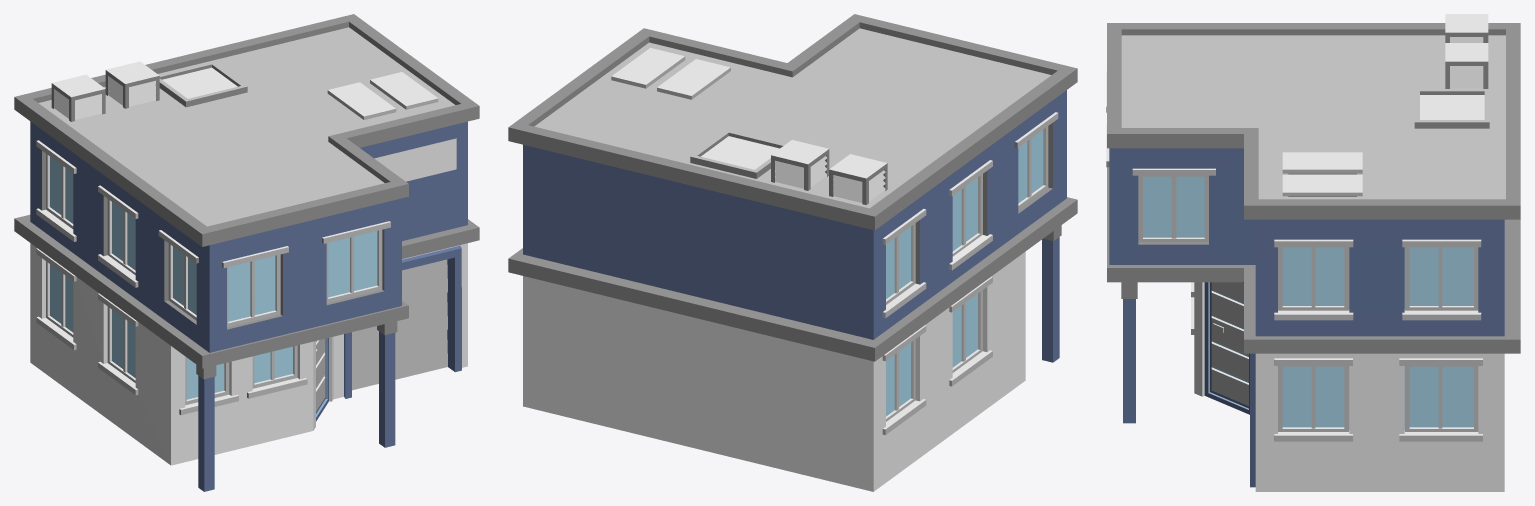
Rendered from house_purpose_001.glb.
3 views of the same model, side by side, from view 1: azimuth 30°, elevation 25°; view 2: azimuth 150°, elevation 25°; view 3: azimuth 270°, elevation 25° (orthographic). The views are drawn at different scales.
Visible parts, largest first — view 1: house_purpose_001; view 2: house_purpose_001; view 3: house_purpose_001.
Boxes of the visible parts, x1,y1,x2,y2 form: house_purpose_001: (14,14,479,491); house_purpose_001: (508,14,1077,491); house_purpose_001: (1106,14,1520,491).
Size of the model in its own units: 7.94 by 6.35 by 7.61.
1 material, 1 textured.
